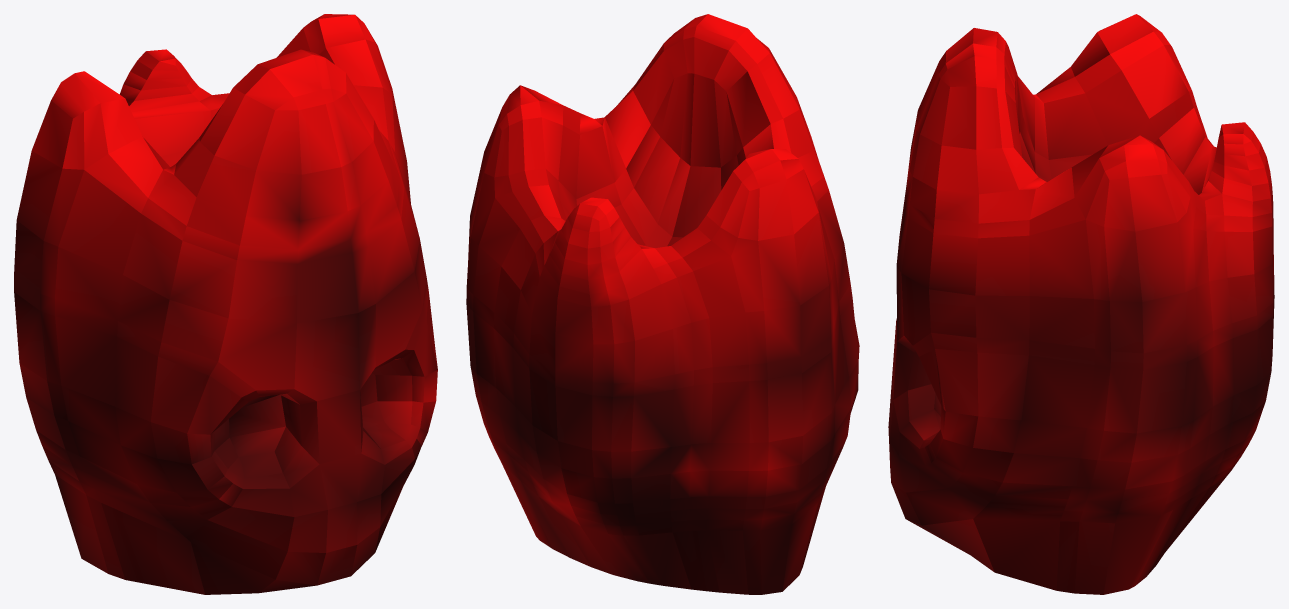
Rendered from Agni.fbx.
The picture shows the model from 3 angles, left to right: view 1: azimuth 30°, elevation 25°; view 2: azimuth 150°, elevation 25°; view 3: azimuth 270°, elevation 25°; orthographic projection. The views are drawn at different scales.
Parts seen in each view (by area): view 1: Agni; view 2: Agni; view 3: Agni.
Part boxes in pixels (x1,y1,x2,y2): Agni: (14, 14, 437, 594); Agni: (466, 14, 859, 594); Agni: (888, 14, 1274, 594).
Bounding box in the file's own units: 10.62 × 10.08 × 14.37.
